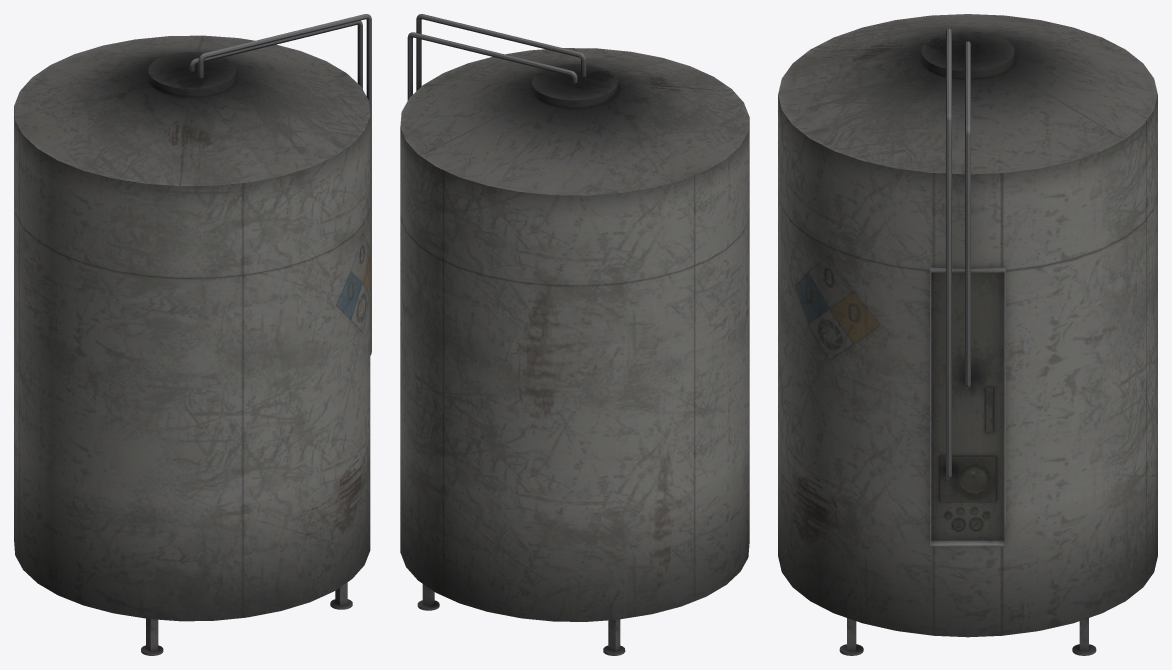
File: tank_d_320x512.glb
3 renders of one model, left to right at view 1: azimuth 30°, elevation 25°; view 2: azimuth 150°, elevation 25°; view 3: azimuth 270°, elevation 25°, orthographic. The views are drawn at different scales.
Visible parts, largest first — view 1: tank_d_320x512; view 2: tank_d_320x512; view 3: tank_d_320x512.
Boxes of the visible parts, box(x1,y1,x2,y2) form: tank_d_320x512: box(14, 14, 371, 655); tank_d_320x512: box(400, 14, 749, 655); tank_d_320x512: box(778, 14, 1157, 655).
Bounding box in the file's own units: 6.41 × 10.18 × 6.1.
Materials: 1 (1 with a texture image).
